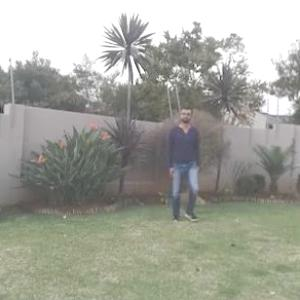follow: (164, 100, 200, 222)
